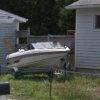Boat: (5, 39, 73, 79)
